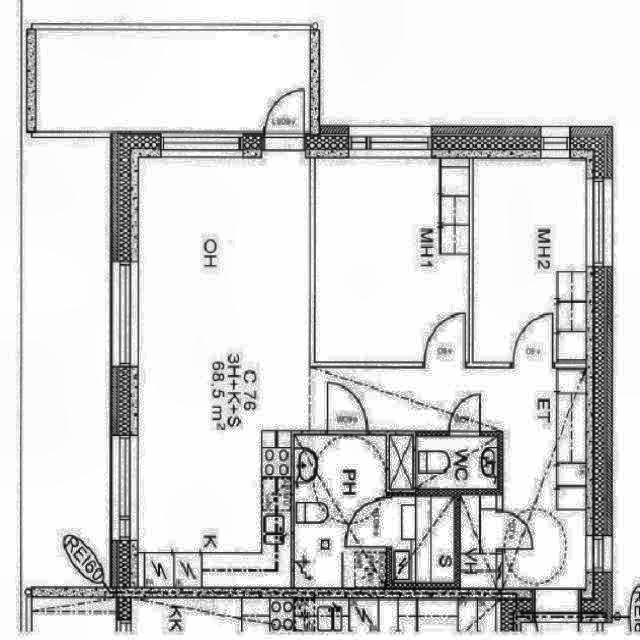room: (314, 158, 470, 362), (474, 159, 586, 359), (293, 436, 386, 587), (392, 497, 454, 583), (416, 436, 498, 489), (461, 495, 496, 589)
